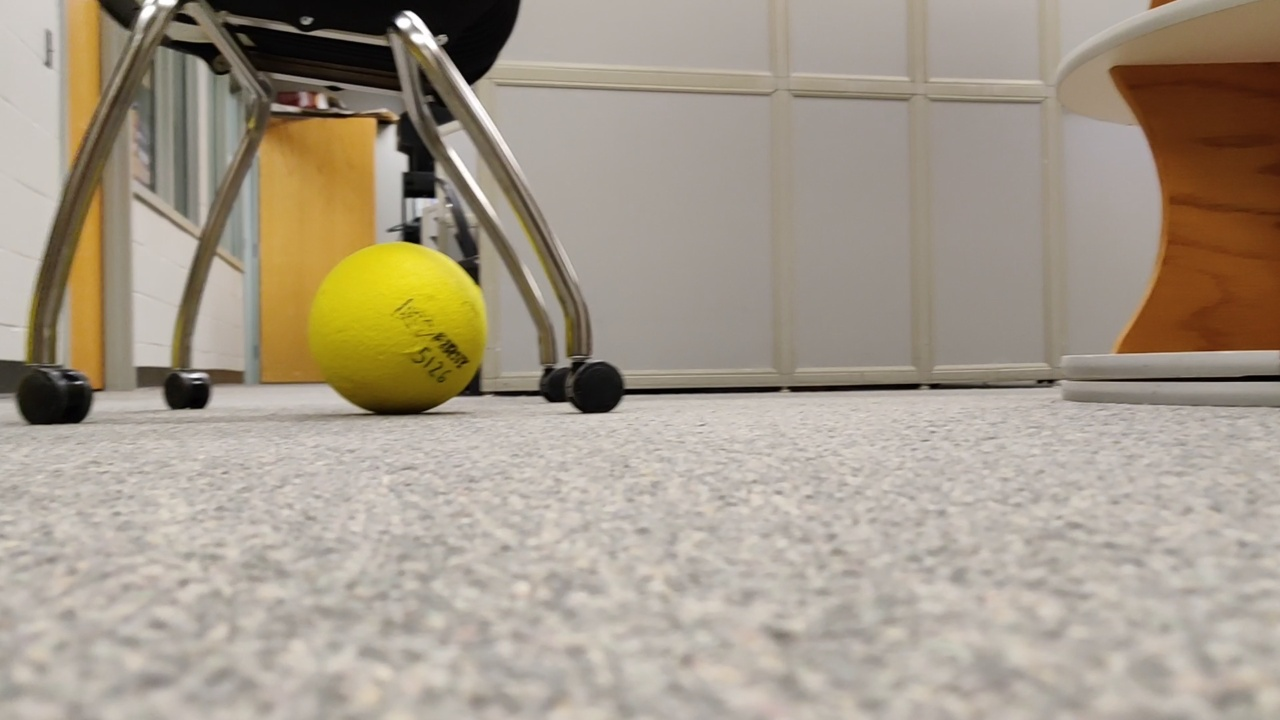Ball: (305, 244, 480, 418)
